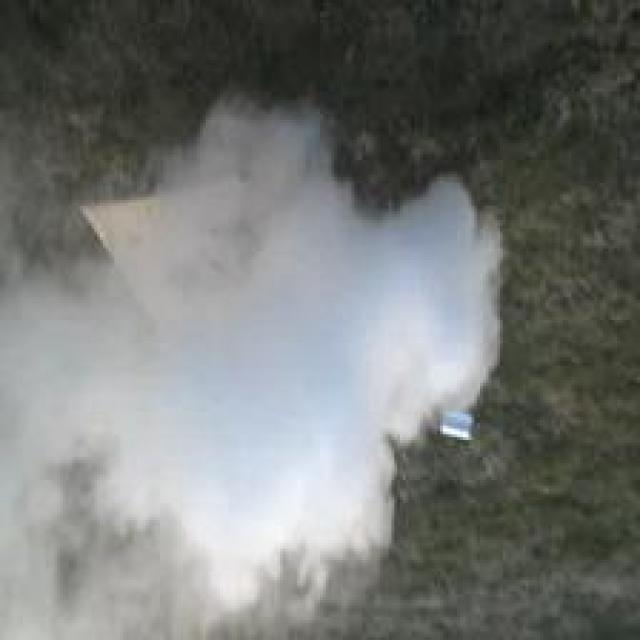Smoke: (2, 100, 503, 640)
